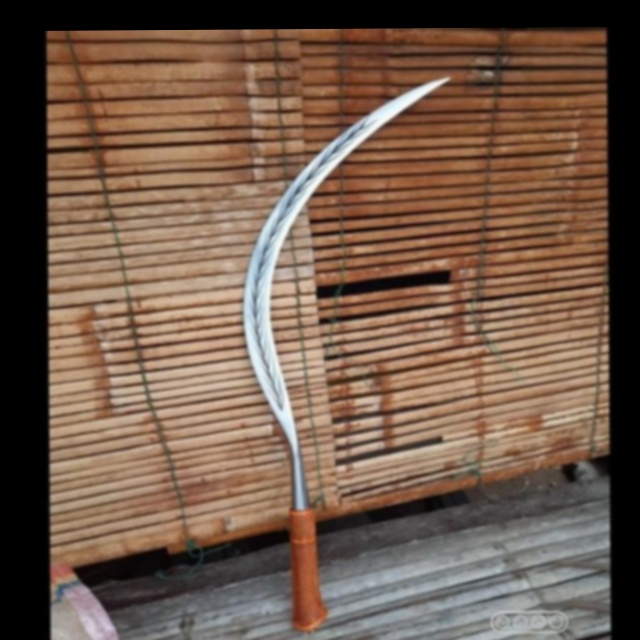Sharp-Object: (233, 28, 459, 632)
